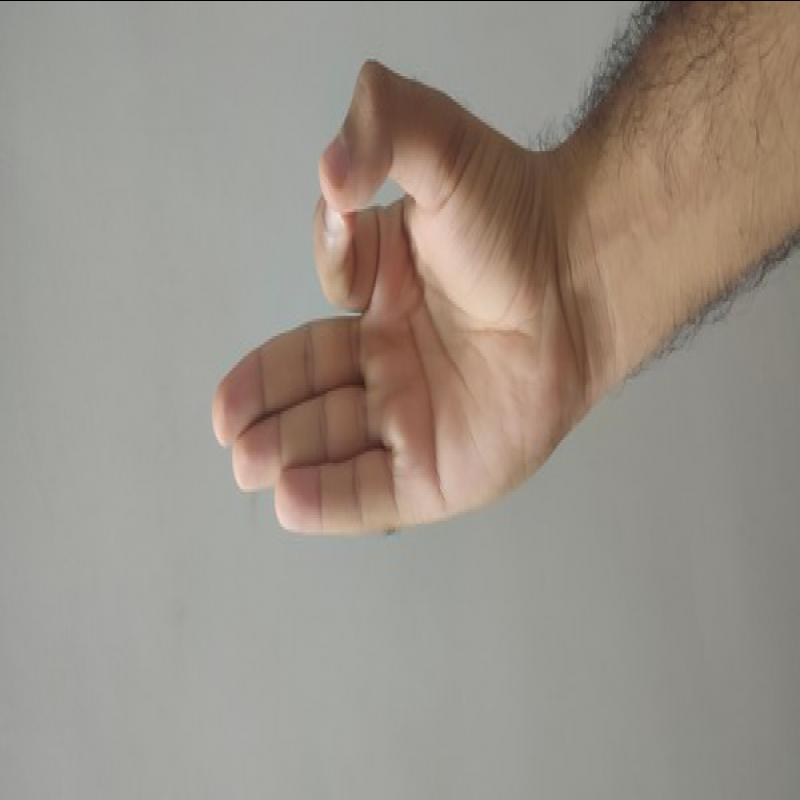Mudraakhyam: (179, 37, 590, 573)
